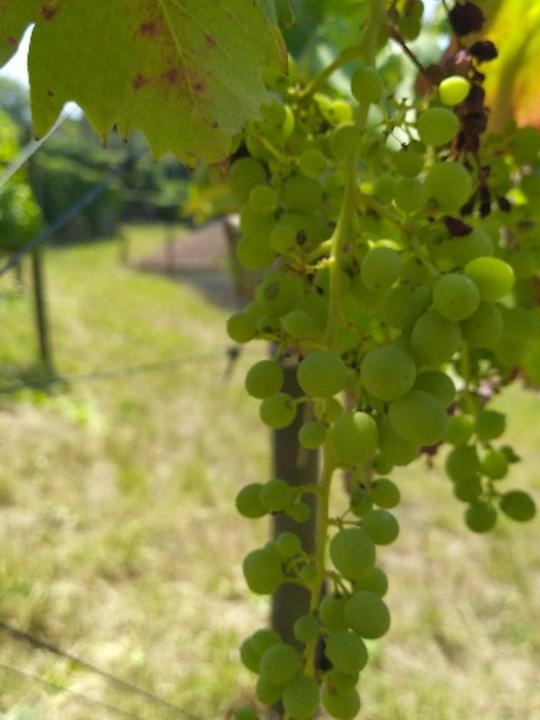grape: (209, 61, 521, 720), (416, 0, 521, 246)
